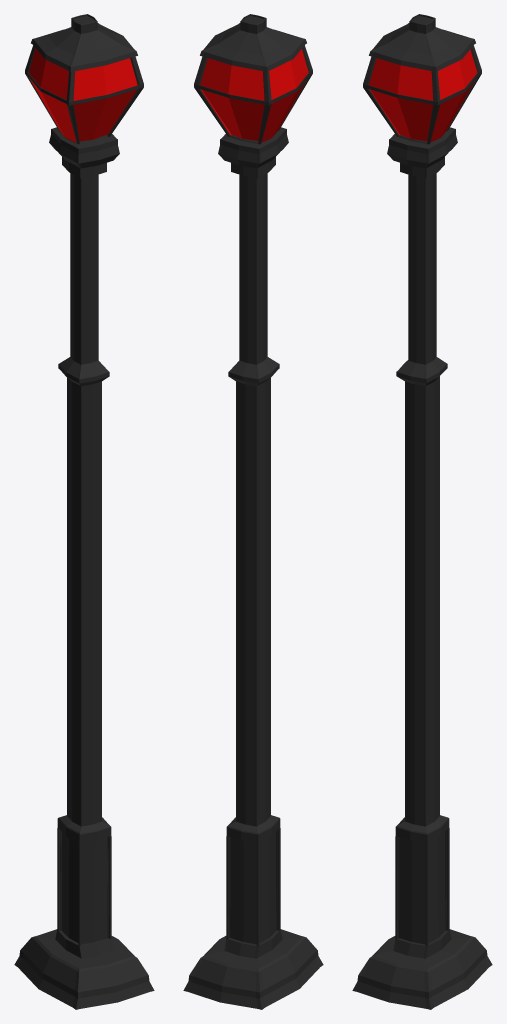
Rendered from LampPost.fbx.
3 views of the same model, side by side, from view 1: azimuth 30°, elevation 25°; view 2: azimuth 150°, elevation 25°; view 3: azimuth 330°, elevation 25° (orthographic).
Visible parts, largest first — view 1: plampost, pCube26, pCube24; view 2: plampost, pCube27, pCube24; view 3: plampost, pCube26, pCube25.
Part boxes in pixels (x1,y1,x2,y2): plampost: (14, 14, 154, 1009); pCube26: (73, 58, 137, 141); pCube24: (29, 48, 76, 142); plampost: (183, 14, 323, 1009); pCube27: (200, 58, 264, 140); pCube24: (261, 49, 308, 142); plampost: (352, 14, 492, 1009); pCube26: (369, 58, 433, 141); pCube25: (430, 49, 477, 142).
Bounding box in the file's own units: 1.33 × 13.19 × 1.68.
